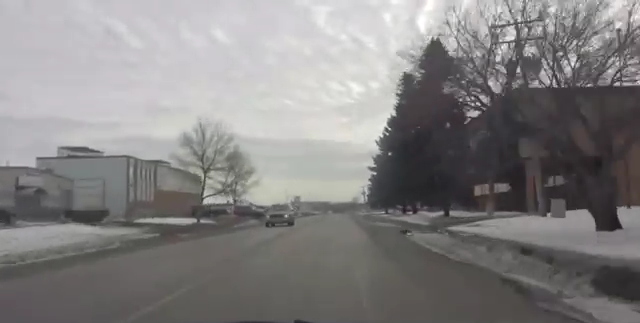car: (263, 203, 295, 227)
